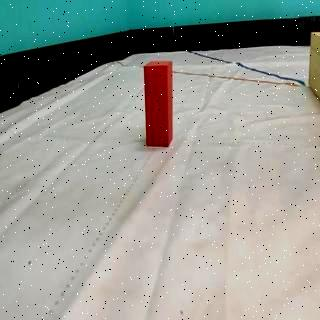redbox: (144, 59, 170, 146)
